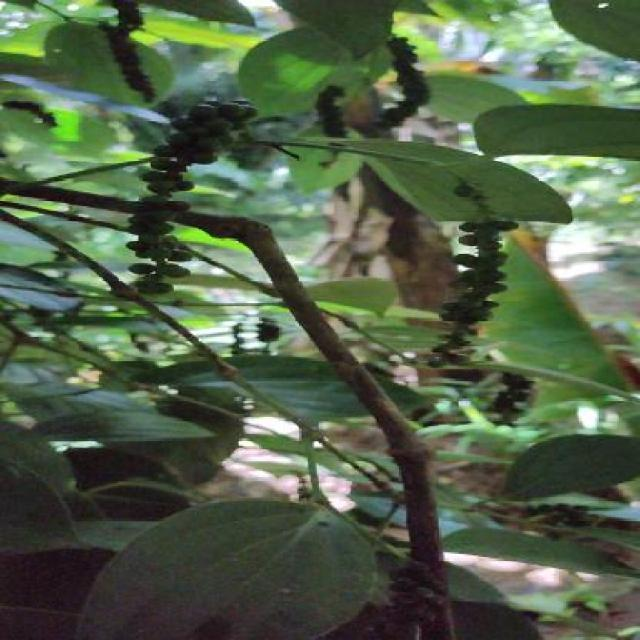UNRIPE: (126, 97, 260, 294), (431, 183, 522, 369), (373, 39, 432, 130), (109, 3, 157, 100), (386, 559, 449, 627), (492, 373, 536, 424), (315, 84, 351, 135), (532, 504, 599, 527)
